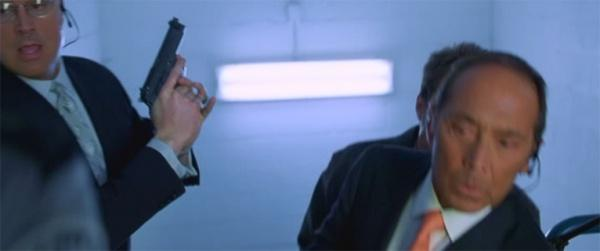Gun: (139, 16, 187, 117)
